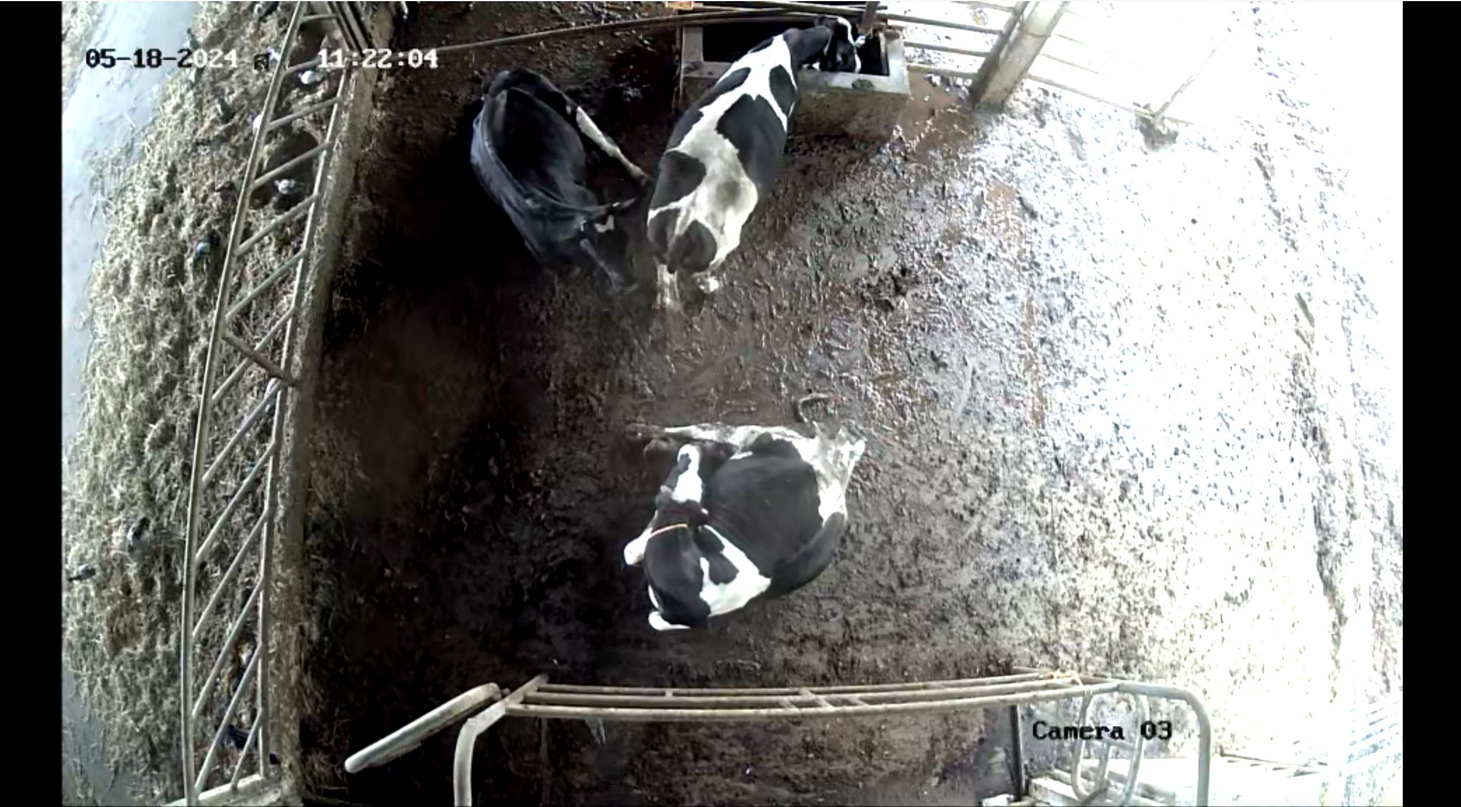drink: (774, 8, 882, 143)
lay: (563, 377, 892, 670), (449, 51, 654, 302)
